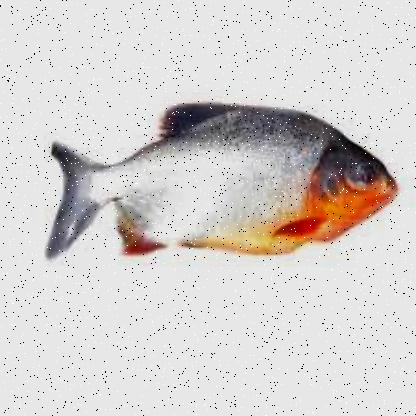ikan-pacu: (44, 104, 398, 257)
